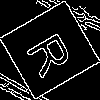R: (25, 25, 81, 80)
